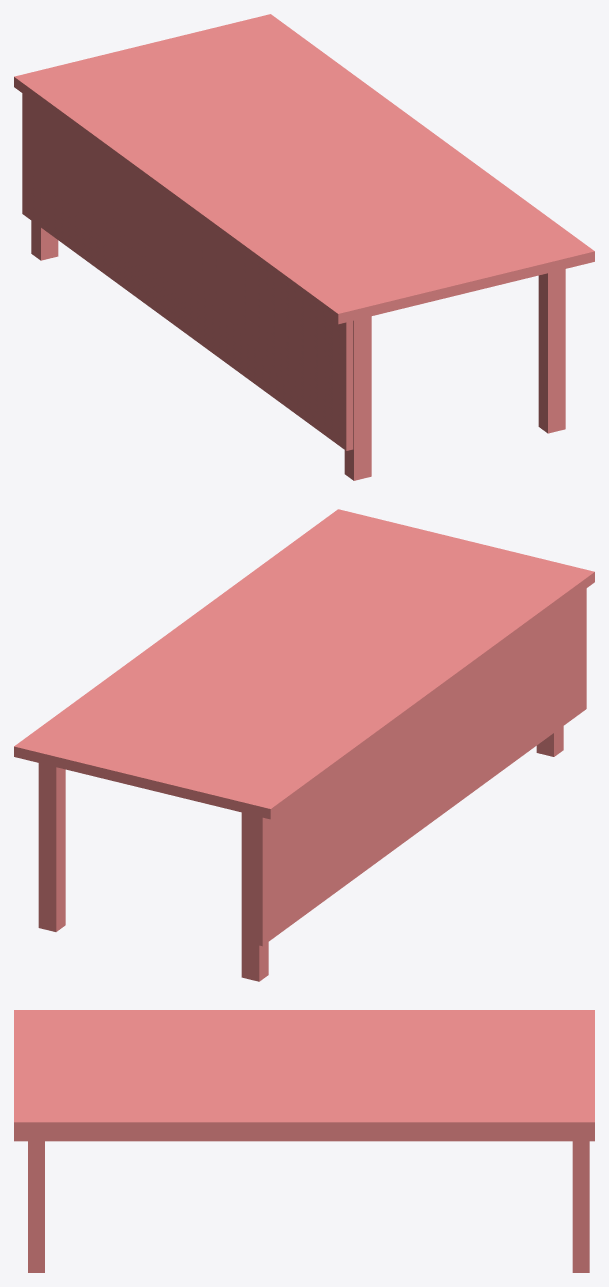
The model's file is table.glb.
3 views of the same model, one above another, from view 1: azimuth 30°, elevation 25°; view 2: azimuth 150°, elevation 25°; view 3: azimuth 270°, elevation 25° (orthographic). The views are drawn at different scales.
Parts seen in each view (by area): view 1: Table; view 2: Table; view 3: Table.
Boxes of the visible parts, x1,y1,x2,y2 form: Table: [14, 14, 594, 480]; Table: [14, 509, 594, 981]; Table: [14, 1010, 594, 1272].
Size of the model in its own units: 2.46 by 1.64 by 5.39.
